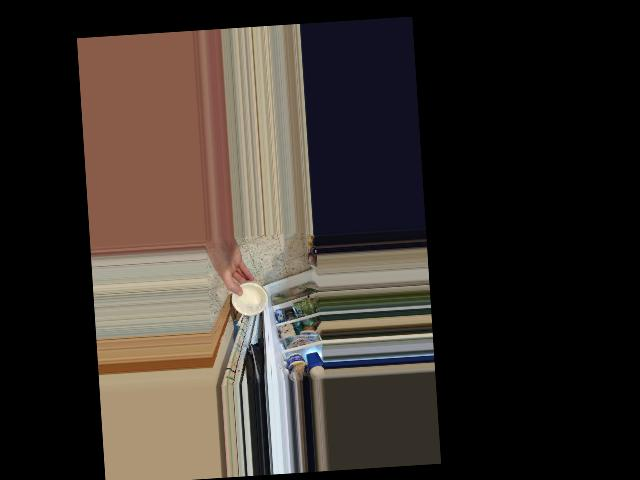cotage: (231, 281, 269, 319)
